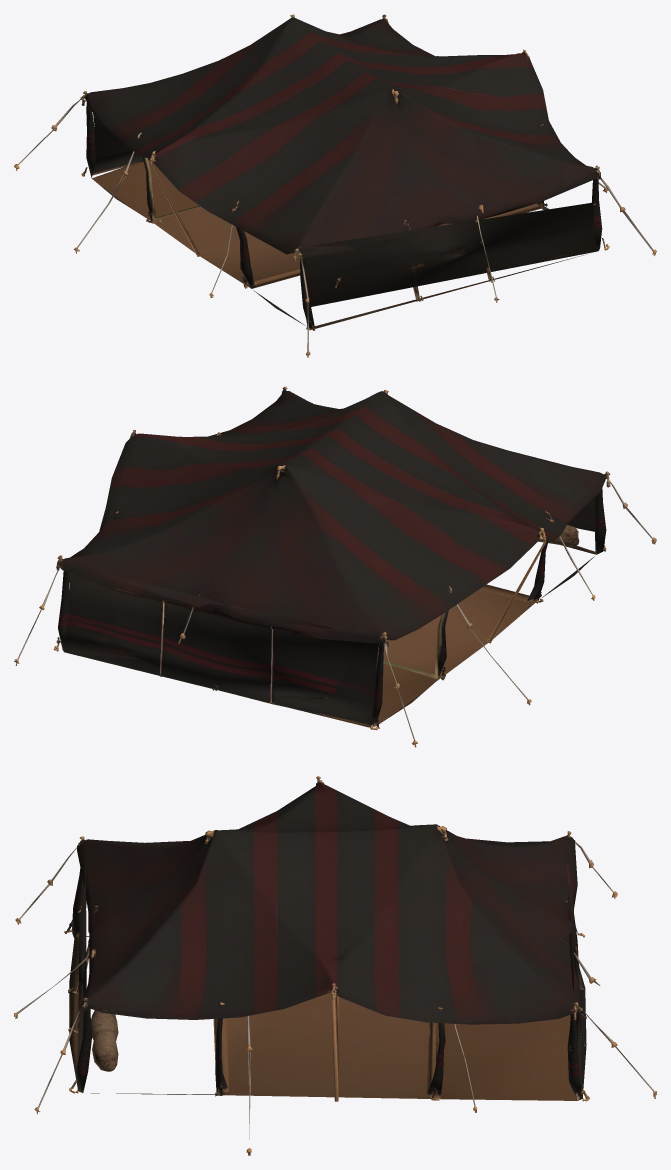
The model's file is tent.glb.
The picture shows the model from 3 angles, top to bottom: view 1: azimuth 30°, elevation 25°; view 2: azimuth 150°, elevation 25°; view 3: azimuth 270°, elevation 25°; orthographic projection. The views are drawn at different scales.
Visible parts, largest first — view 1: tripo_node_00368f30-c7a4-4c7f-975d-2f1493870135; view 2: tripo_node_00368f30-c7a4-4c7f-975d-2f1493870135; view 3: tripo_node_00368f30-c7a4-4c7f-975d-2f1493870135.
Part boxes in pixels (x1,y1,x2,y2): tripo_node_00368f30-c7a4-4c7f-975d-2f1493870135: (14,14,656,357); tripo_node_00368f30-c7a4-4c7f-975d-2f1493870135: (14,386,656,747); tripo_node_00368f30-c7a4-4c7f-975d-2f1493870135: (14,776,656,1155).
Bounding box in the file's own units: 6.8 × 2.5 × 7.14.
1 material, 1 textured.
